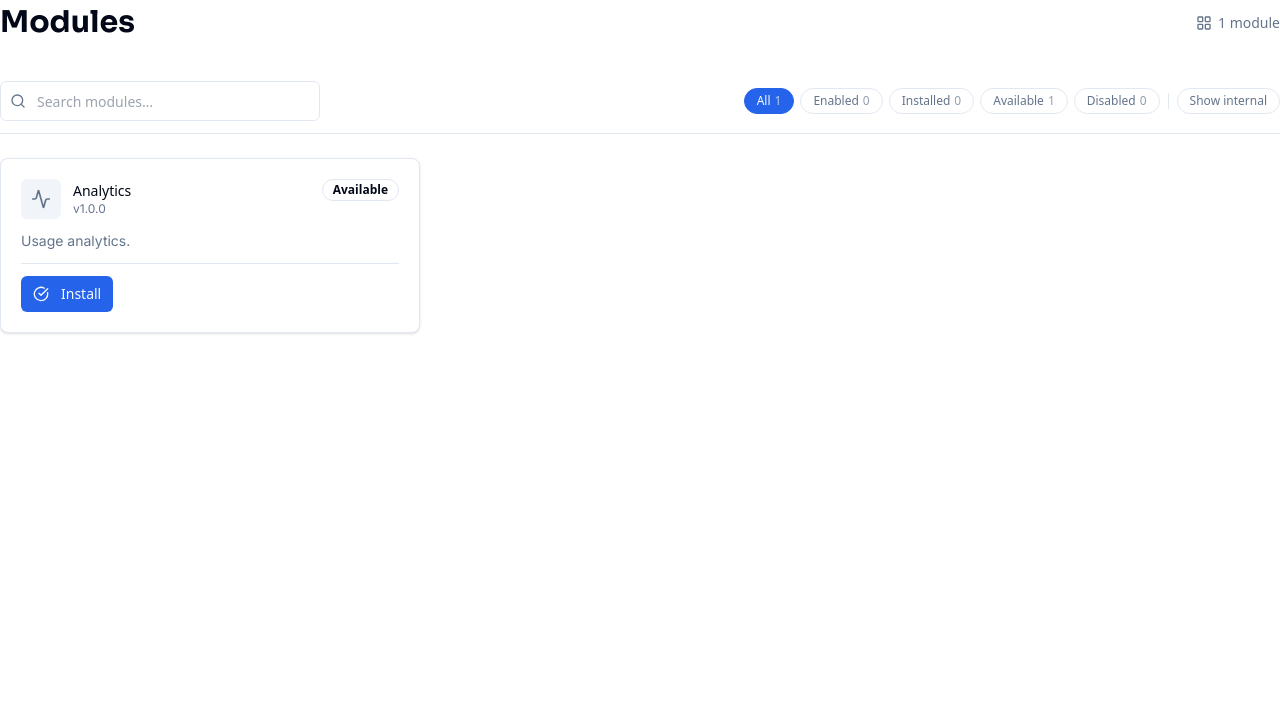
ModulesPage — 409 MODULE_CONFLICT handling › falls back to error toast when 409 has no details
Expected: the text "Analytics" is shown, [73,181,131,201]
Click the button "Install".
click(67, 294)  # box [21,276,113,312]
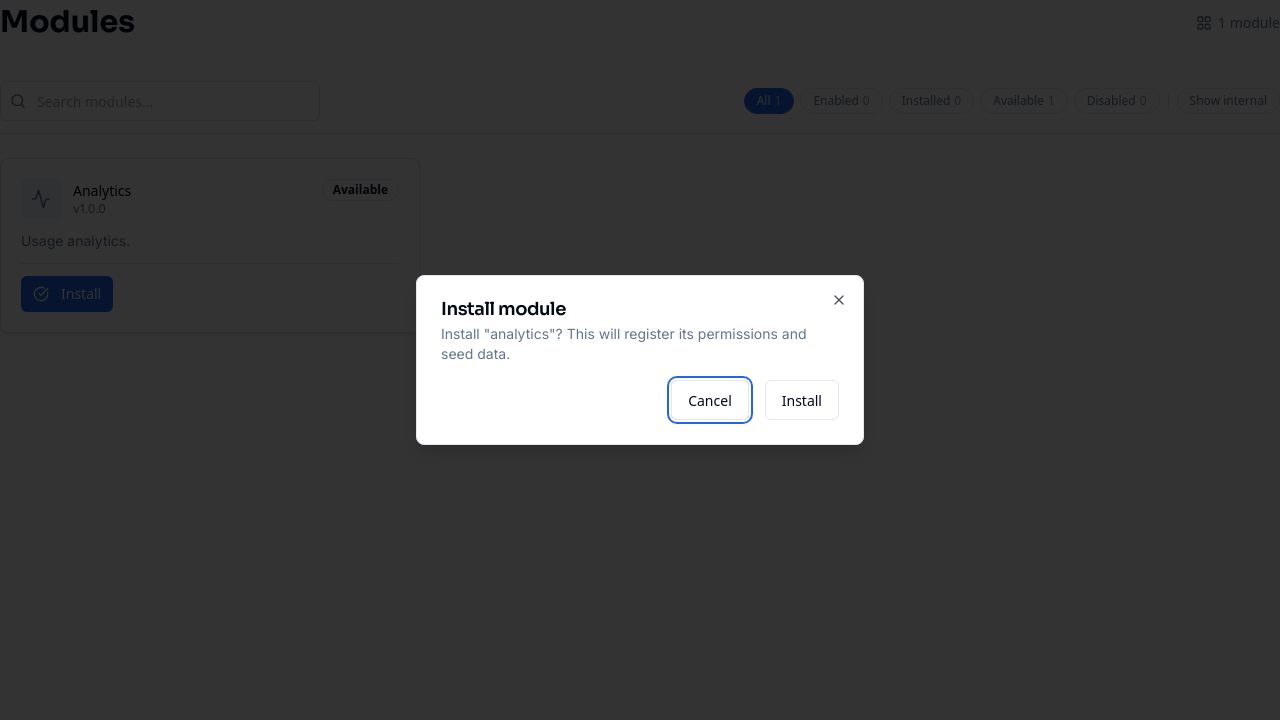
Click the button "Install".
click(802, 400)  # box [765,380,839,420]
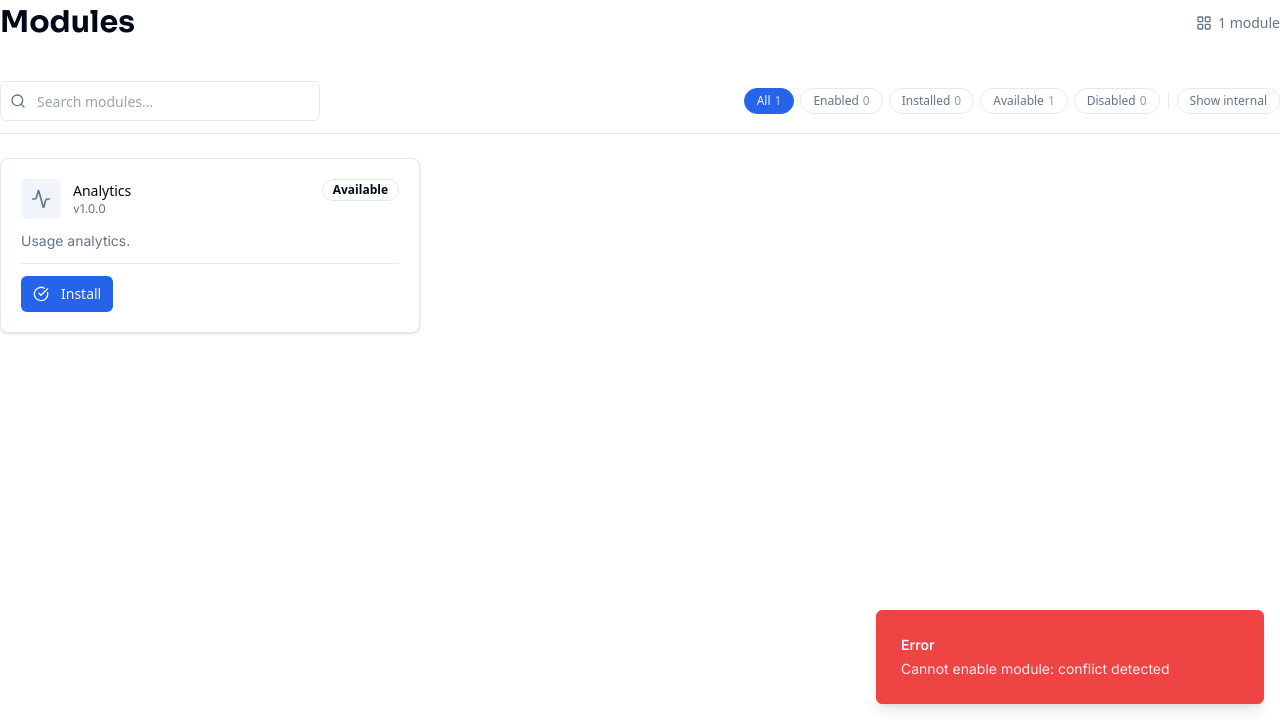
Result: the text "Cannot enable module: conflict detected" is shown at [901,659,1170,679]
Result: the dialog is gone
